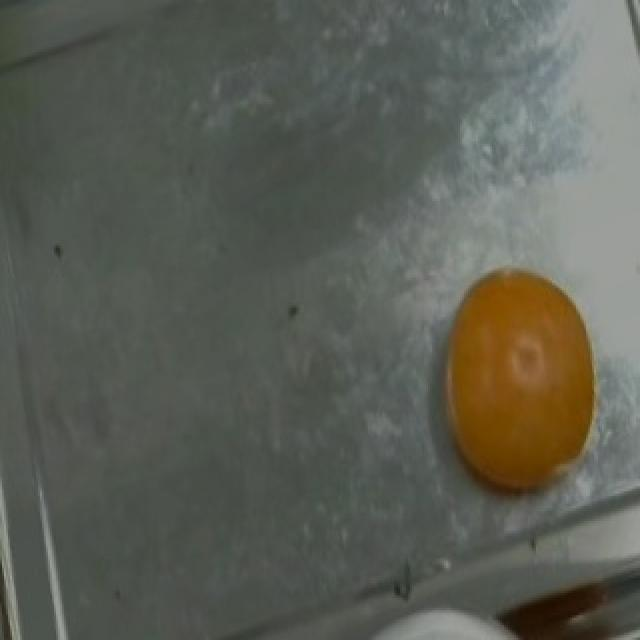Fruit: (420, 263, 622, 511), (350, 593, 564, 640)
